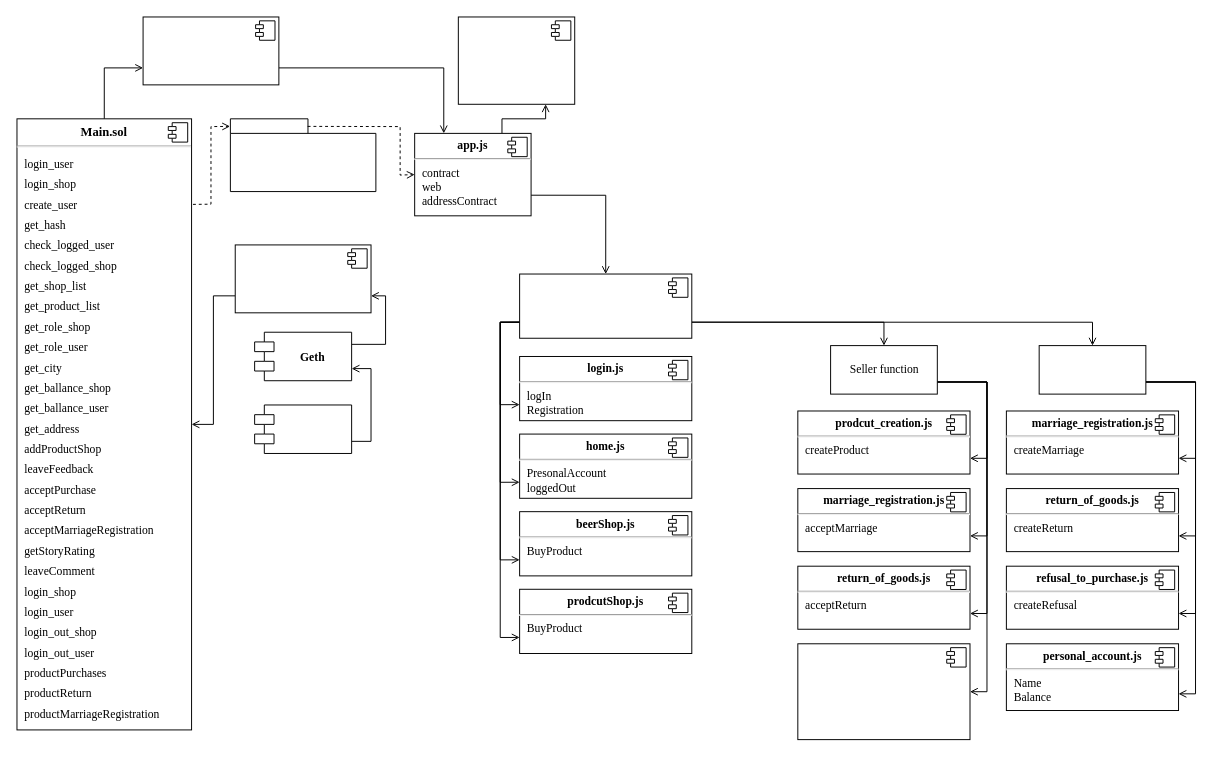
Some shapes in this 1220 by 757 pixel diagram are drawn without their labels. Here are the shapes that lost their labels. From the top down, the centre of each, then its label:
the point at 210,50: ABI web3 userList
the point at 516,60: index.js reactDOM.render
the point at 302,155: Внешнии библиотеки: web3 react react-router-dom
the point at 302,278: ABI web3 deploy
the point at 605,305: router.js Router
the point at 1092,369: Seller user
the point at 303,428: Генезис блок
the point at 883,691: personal_account.js Name Balance City Shop Number
